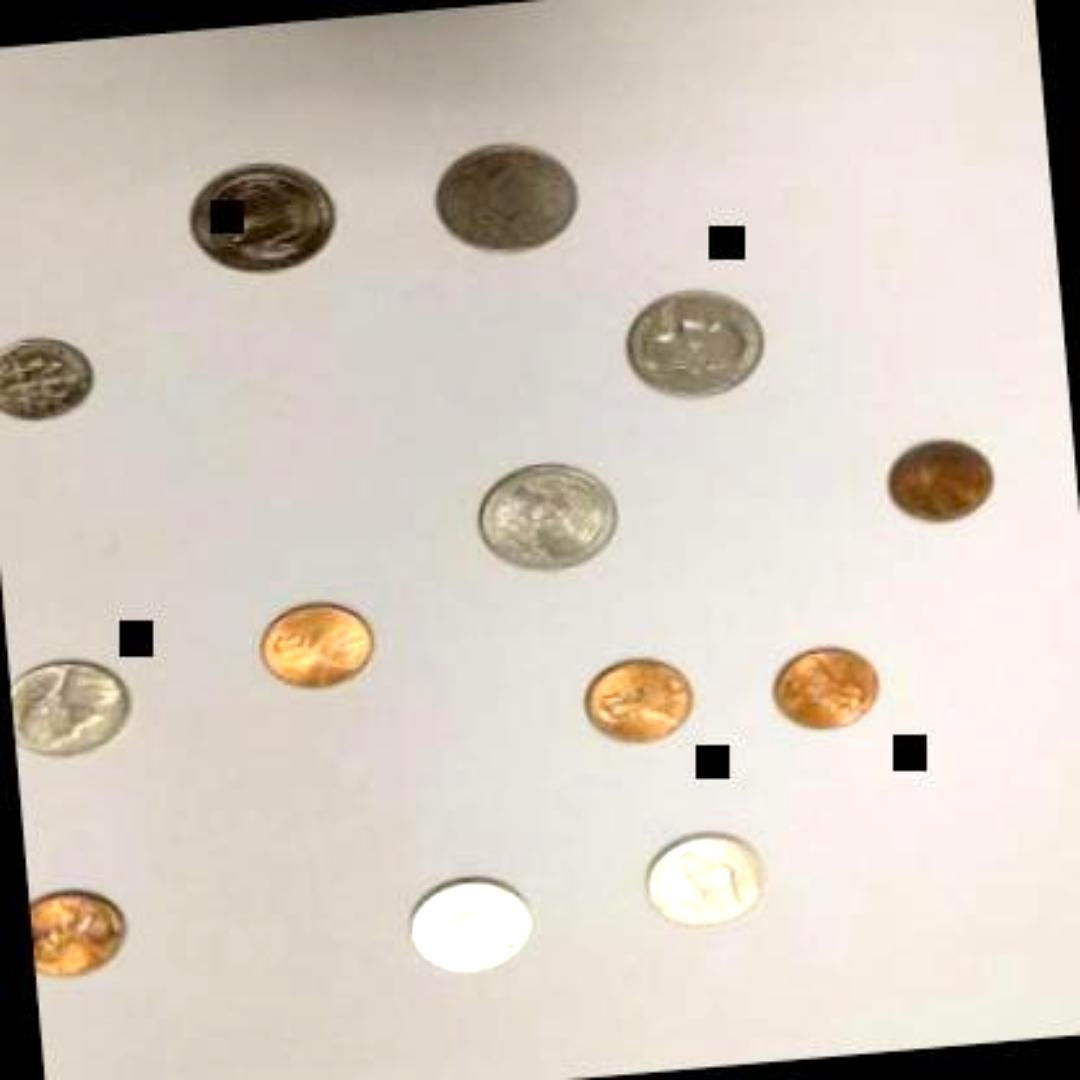Dime: (0, 330, 96, 428)
Nickel: (9, 648, 141, 766), (408, 867, 536, 977), (639, 828, 771, 930)
Penny: (252, 590, 378, 700), (880, 428, 1000, 530), (582, 650, 698, 754), (29, 884, 135, 986), (771, 641, 882, 737)
Quarter: (432, 133, 586, 265), (182, 158, 338, 286), (472, 453, 620, 577), (623, 279, 770, 403)
